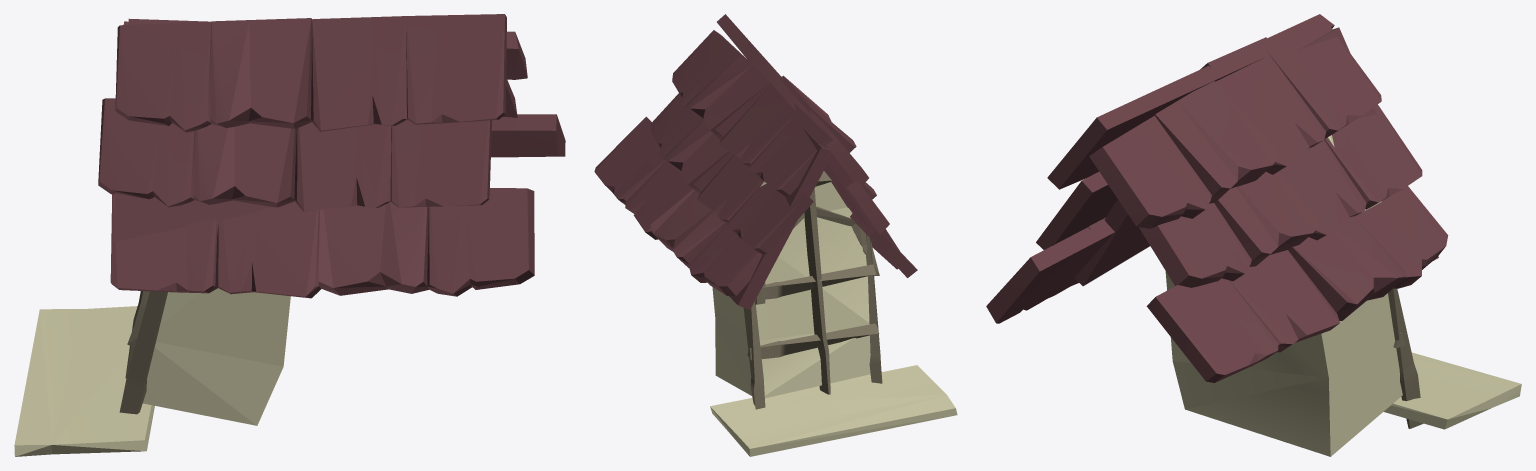
File: RedFrontWindowsTop.fbx
3 views of the same model, side by side, from view 1: azimuth 30°, elevation 25°; view 2: azimuth 150°, elevation 25°; view 3: azimuth 270°, elevation 25° (orthographic). The views are drawn at different scales.
Parts seen in each view (by area): view 1: RedFrontWindowsTop_Merged; view 2: RedFrontWindowsTop_Merged; view 3: RedFrontWindowsTop_Merged.
Part boxes in pixels (x1=…): RedFrontWindowsTop_Merged: x1=14, y1=14, x2=565, y2=456; RedFrontWindowsTop_Merged: x1=594, y1=14, x2=957, y2=456; RedFrontWindowsTop_Merged: x1=986, y1=14, x2=1521, y2=456.
Bounding box in the file's own units: 410 × 307 × 364.
